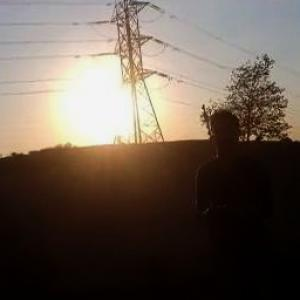follow: (190, 103, 282, 299)
